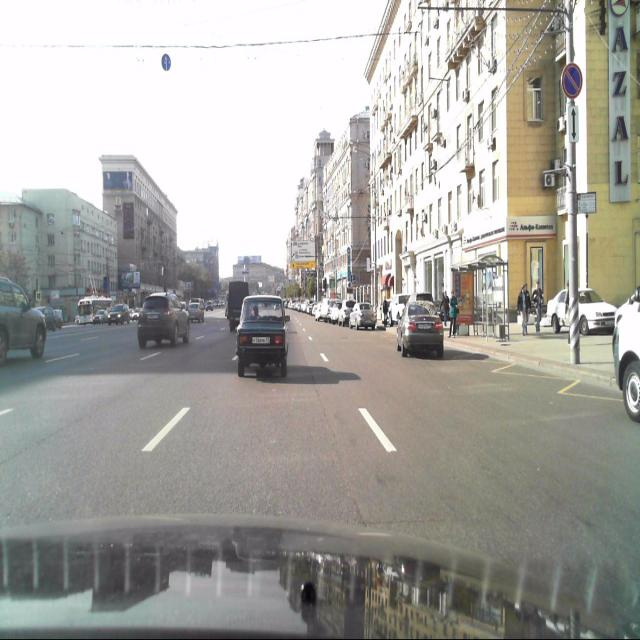road sign: (568, 105, 578, 143)
